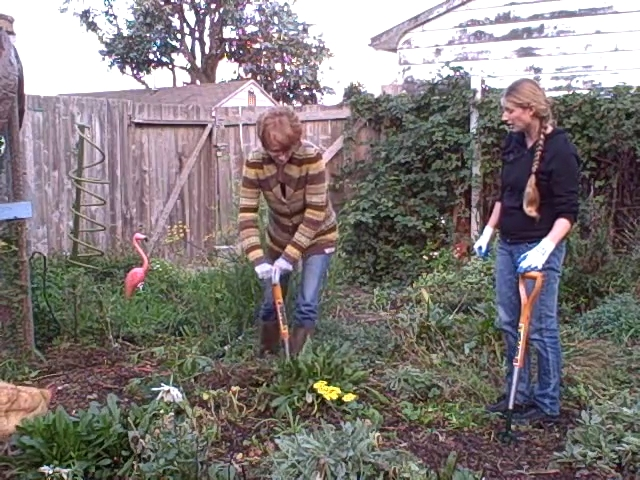person: (473, 78, 579, 424), (237, 109, 339, 357)
